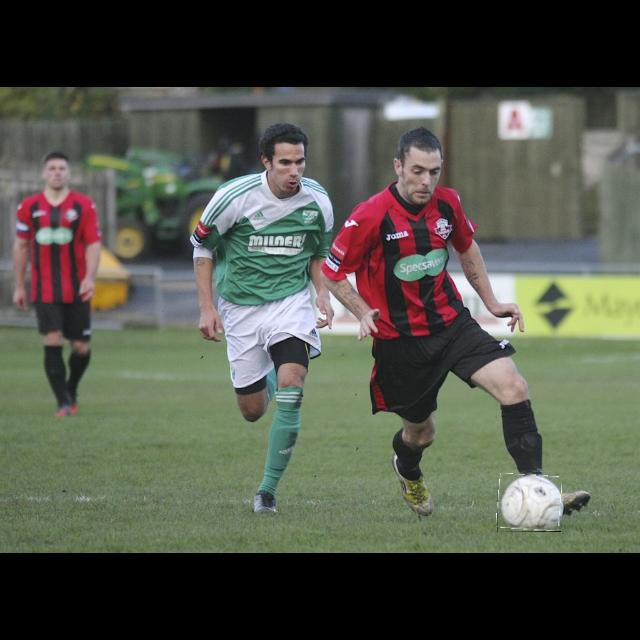Football: (497, 474, 561, 532)
